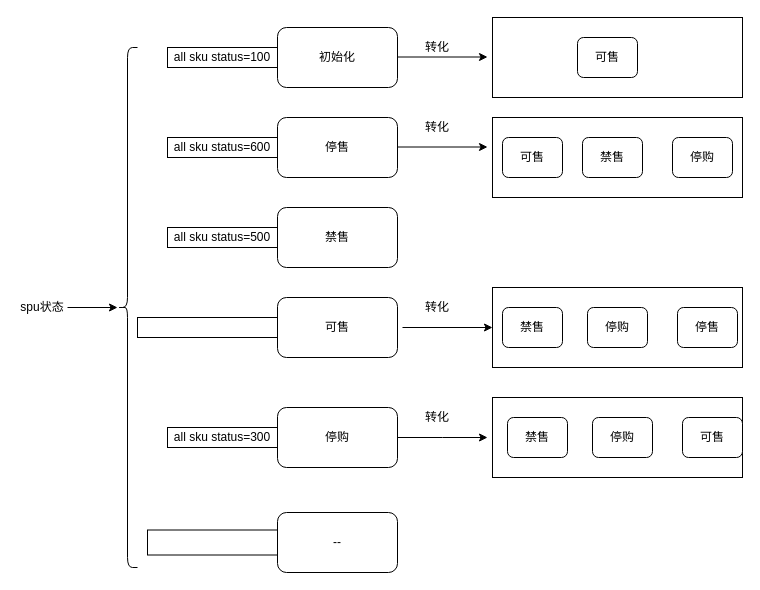
The diagram is 760 pixels wide and 590 high, and some of its shapes have lost their labels. Each missing label, with the centre of its shape:
"not sku status=200 &other status" belongs at pixel 212 542.
"only one sku status=200" belongs at pixel 207 327.
